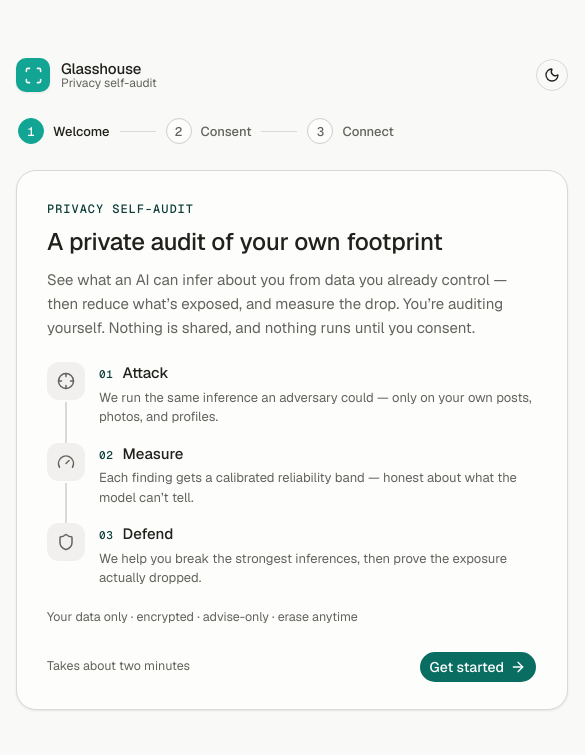
Test: OnboardingWizard › stale policy: clears every checkbox and re-asks against the refreshed text
The width and height of the screenshot is (585, 755).
Click the button "Get started": (478, 667) [419,651,537,683]
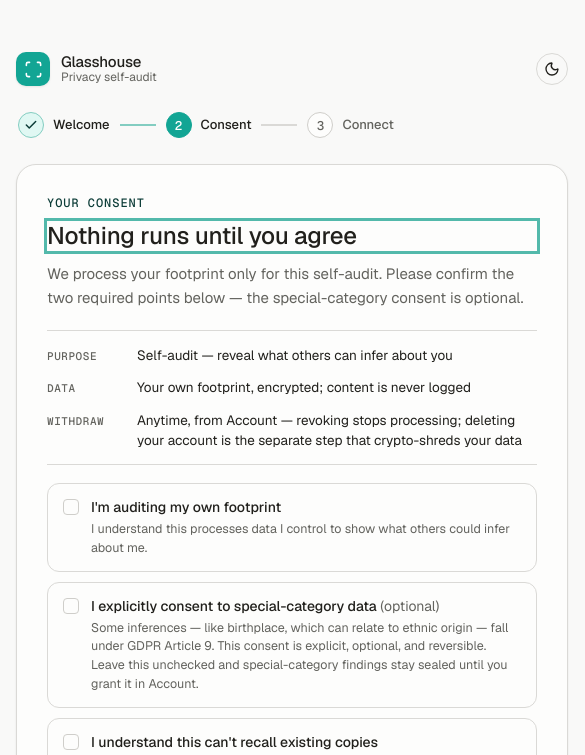
Click the checkbox named "auditing my own footprint" next to "I'm auditing my own footprint": (71, 507) [63,499,79,515]
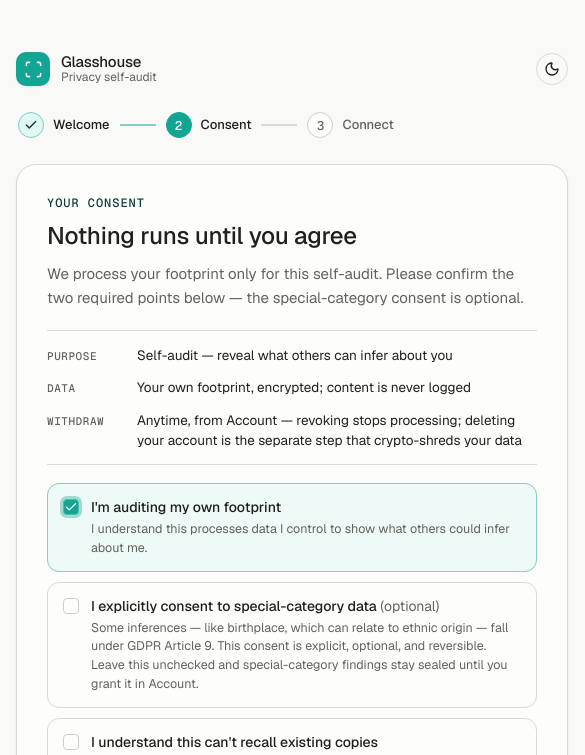
Click the 3rd checkbox named "can't recall existing copies": (71, 742) [63,734,79,750]
(page scrolled)
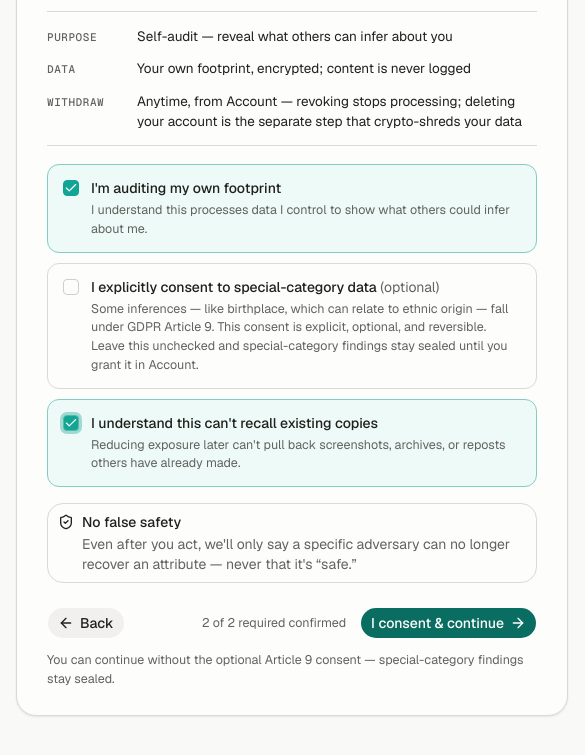
Click the button "I consent & continue": (449, 623) [360,607,537,639]
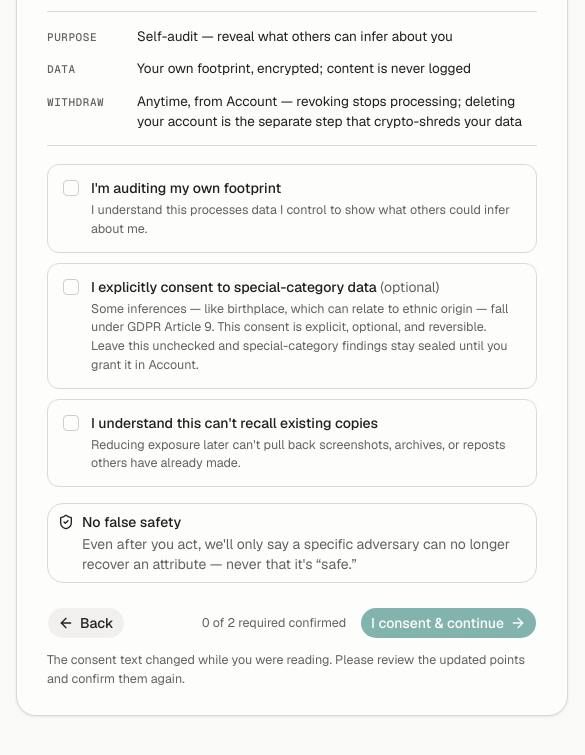
Check: the checkbox next to "I'm auditing my own footprint" is not checked, box [63,180,79,196]
Check: the text "consent text changed" is shown, box [47,651,525,687]
Check: the button "I consent & continue" is disabled, box [360,607,537,639]
